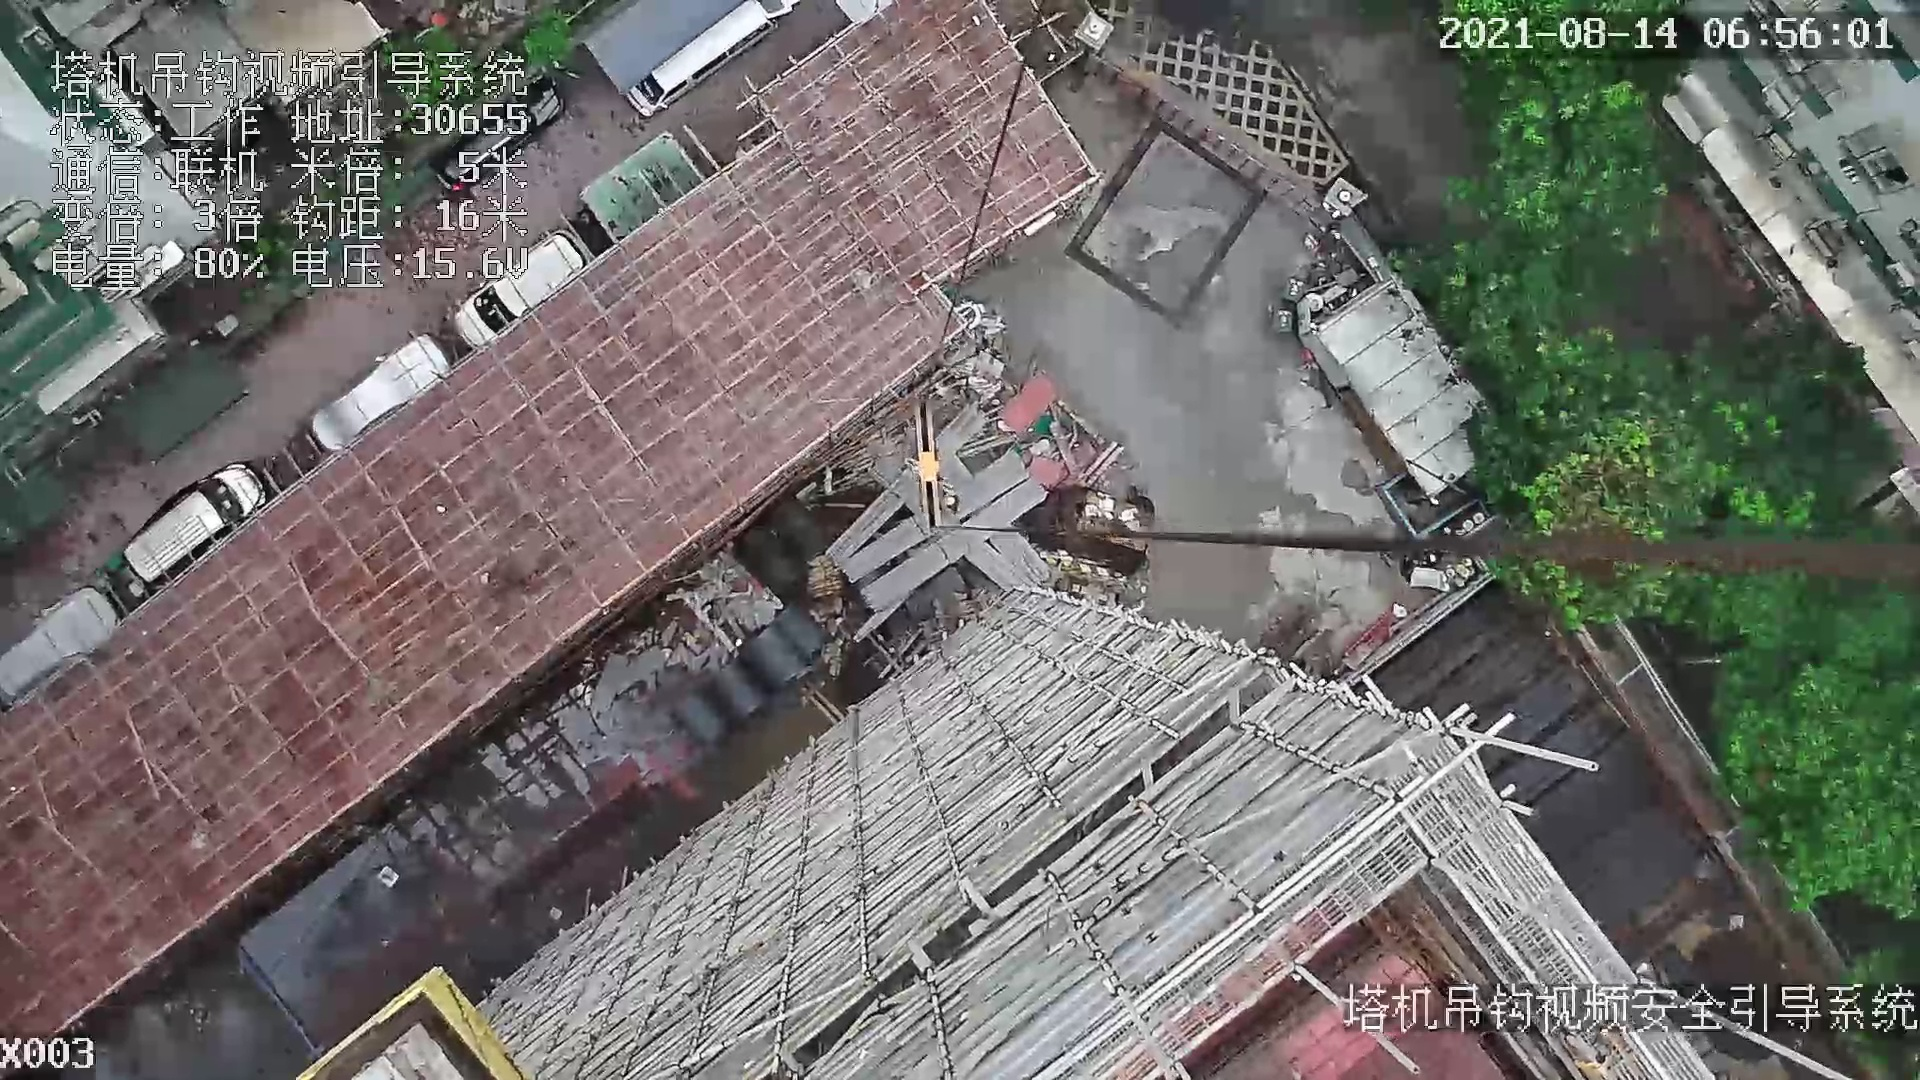hook: (905, 394, 963, 537)
rebar: (828, 404, 988, 566), (861, 477, 1047, 615), (840, 452, 1029, 584), (992, 529, 1048, 582), (965, 542, 1018, 589)
